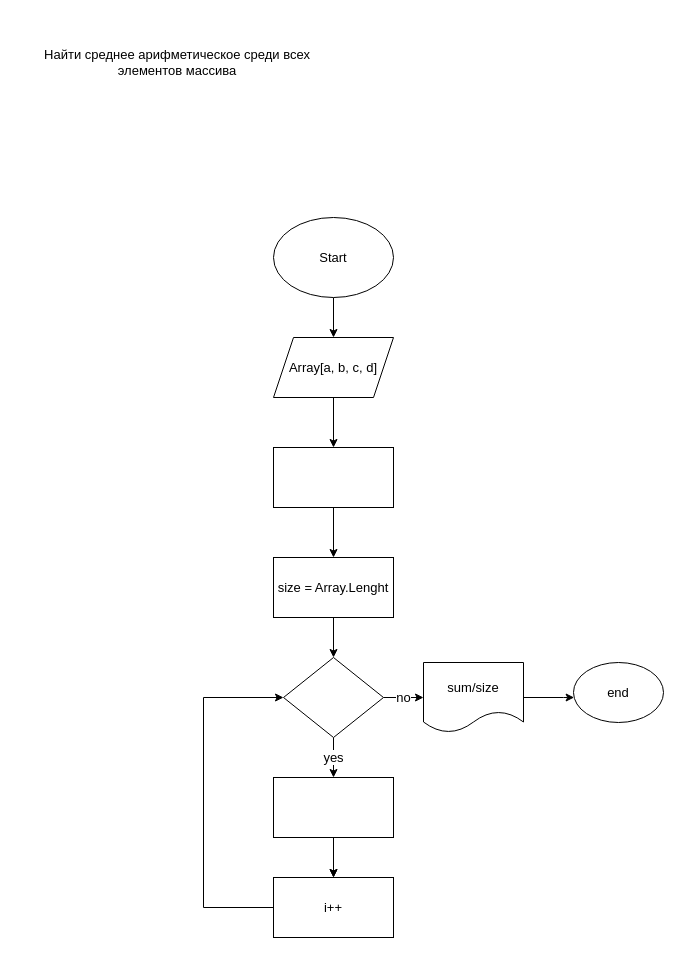
The diagram is 681 pixels wide and 955 high, and some of its shapes have lost their labels. Each missing label, with the centre of its shape:
"i < size?" goes at pixel 333 697.
"i = 0 sum = 0" goes at pixel 333 477.
"sum = Array[ i ] + sum" goes at pixel 333 807.
